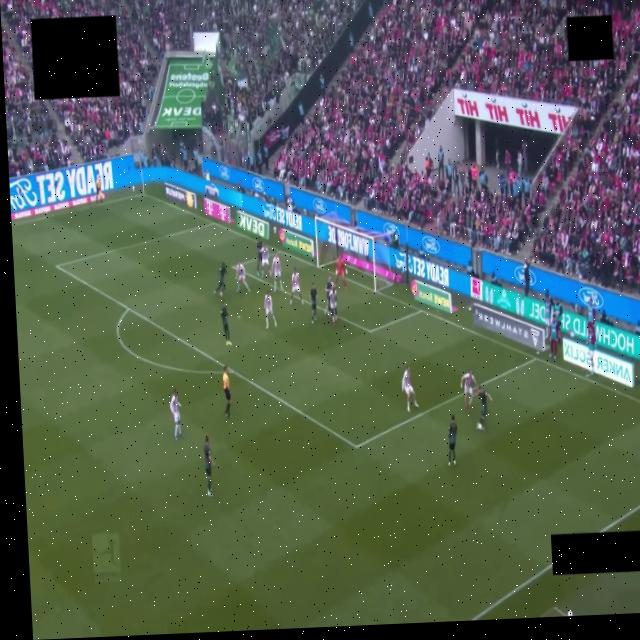ball: (477, 423, 482, 430)
player: (203, 436, 216, 497), (476, 386, 492, 431), (460, 370, 478, 409), (402, 367, 417, 412), (169, 389, 182, 440), (270, 252, 283, 291), (264, 291, 277, 329), (290, 268, 302, 304), (235, 262, 249, 292), (214, 263, 226, 297), (448, 415, 456, 466), (221, 302, 230, 346), (334, 257, 346, 289), (324, 276, 332, 315), (328, 288, 336, 326), (261, 245, 270, 277), (310, 283, 316, 323), (256, 238, 262, 276)
referee: (222, 366, 230, 419)
